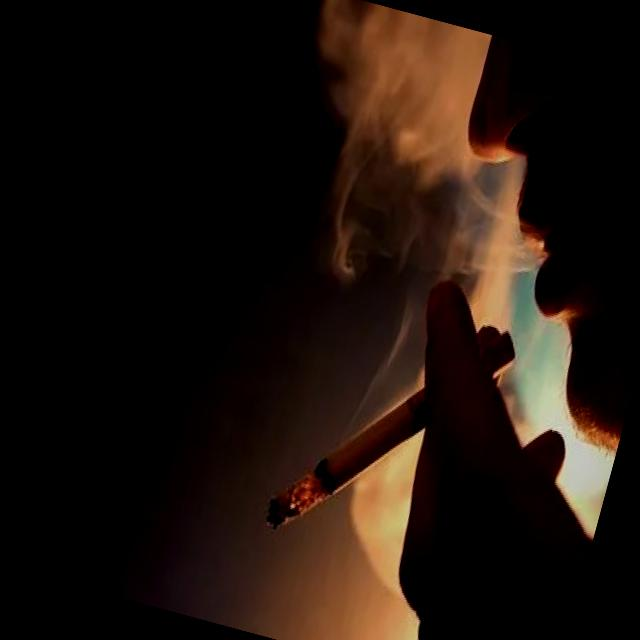cigarette: (260, 280, 520, 582)
